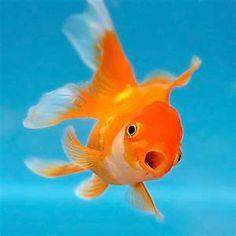goldfish: (33, 49, 217, 211)
